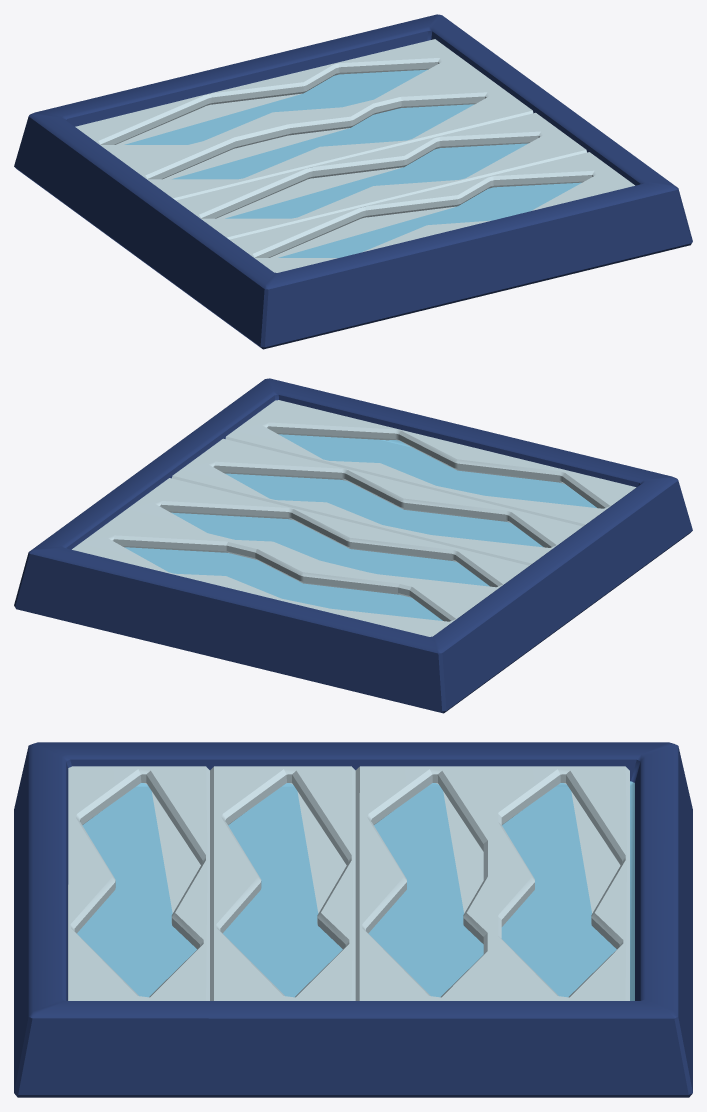
File: FreezePlate.fbx
The picture shows the model from 3 angles, top to bottom: view 1: azimuth 30°, elevation 25°; view 2: azimuth 150°, elevation 25°; view 3: azimuth 270°, elevation 25°; orthographic projection. The views are drawn at different scales.
Parts seen in each view (by area): view 1: polySurface59; view 2: polySurface59; view 3: polySurface59.
Boxes of the visible parts, x1,y1,x2,y2 form: polySurface59: [14, 14, 692, 349]; polySurface59: [14, 378, 692, 713]; polySurface59: [14, 742, 692, 1097].
Bounding box in the file's own units: 99.75 × 12.63 × 99.75.
